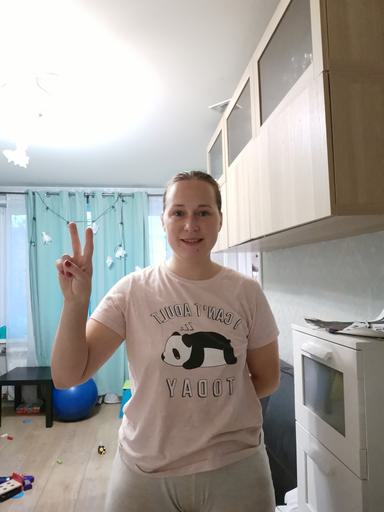peace: (54, 220, 96, 303)
